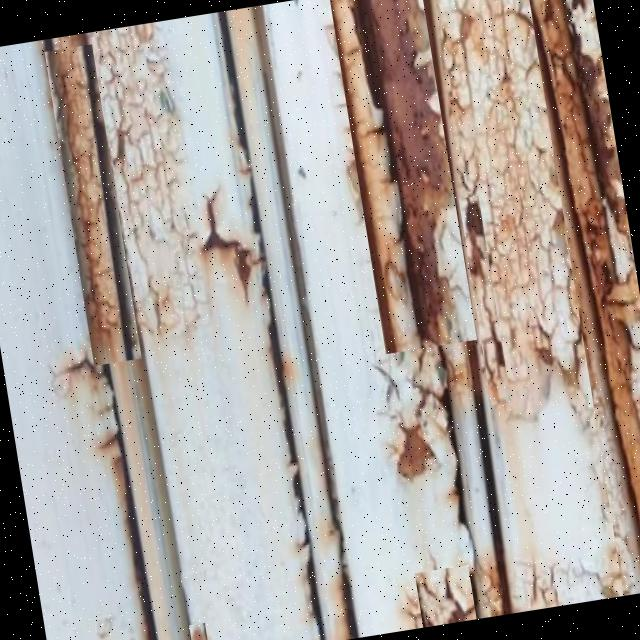Corrosion: (34, 0, 640, 640), (40, 32, 140, 366)
